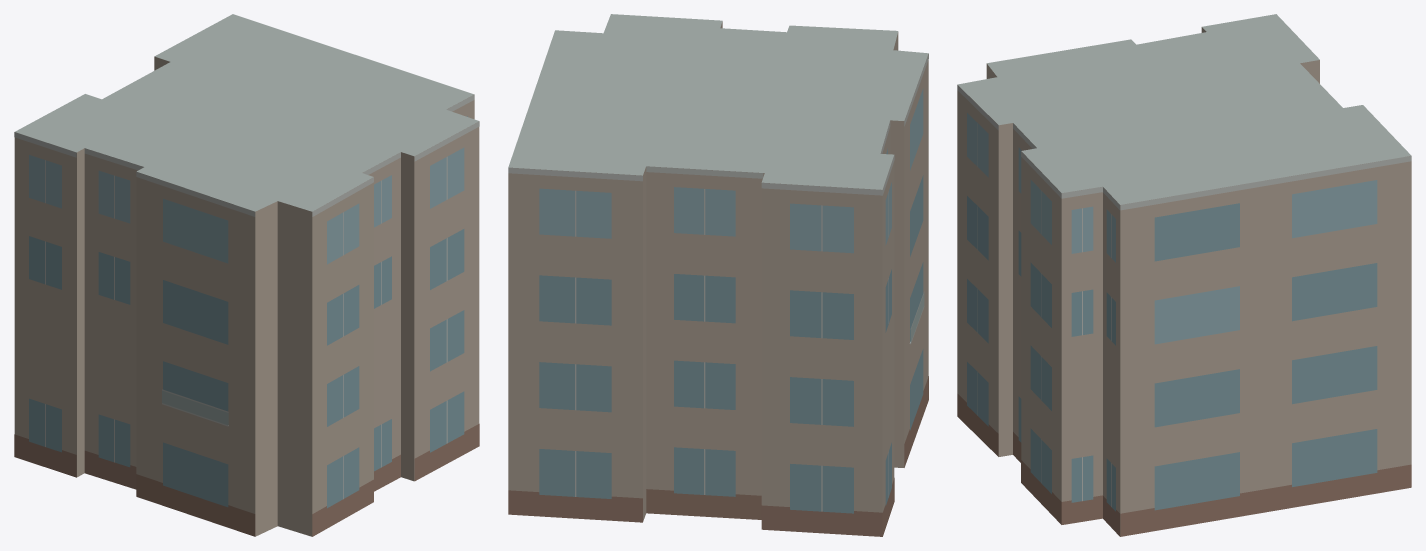
Rendered from survey-upis-32843121.glb.
3 views of the same model, side by side, from view 1: azimuth 30°, elevation 25°; view 2: azimuth 150°, elevation 25°; view 3: azimuth 270°, elevation 25° (orthographic). The views are drawn at different scales.
Visible parts, largest first — view 1: survey-upis-32843121.tmp; view 2: survey-upis-32843121.tmp; view 3: survey-upis-32843121.tmp.
Boxes of the visible parts, x1,y1,x2,y2 form: survey-upis-32843121.tmp: (14,14,479,536); survey-upis-32843121.tmp: (508,14,928,536); survey-upis-32843121.tmp: (957,14,1411,536).
Size of the model in its own units: 18.15 by 14.7 by 18.25.
